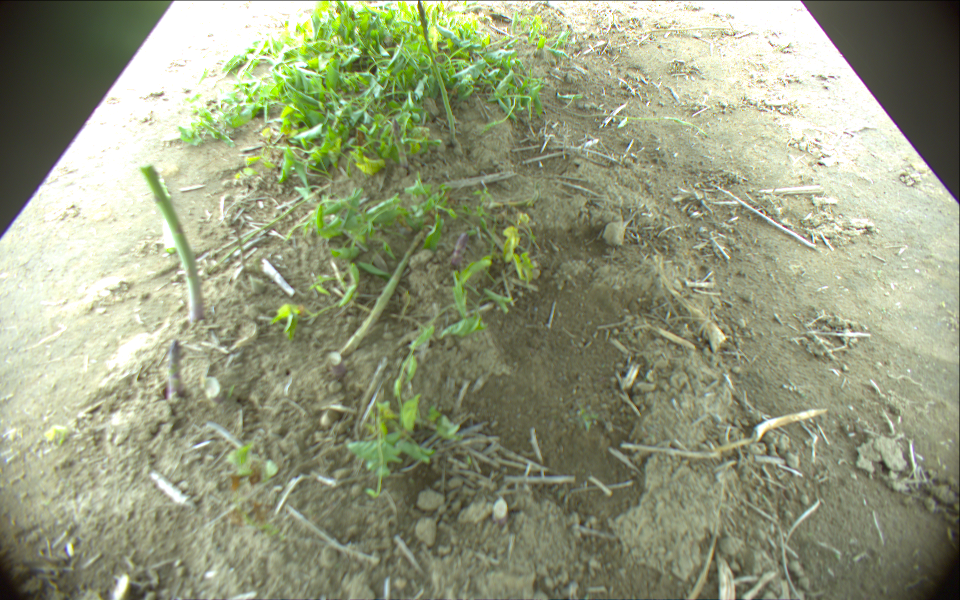aspa: (339, 229, 424, 358), (138, 161, 204, 321), (414, 1, 459, 142), (389, 118, 410, 168), (167, 337, 183, 397), (450, 232, 471, 267)
